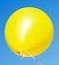Balloon: (5, 7, 53, 57)
